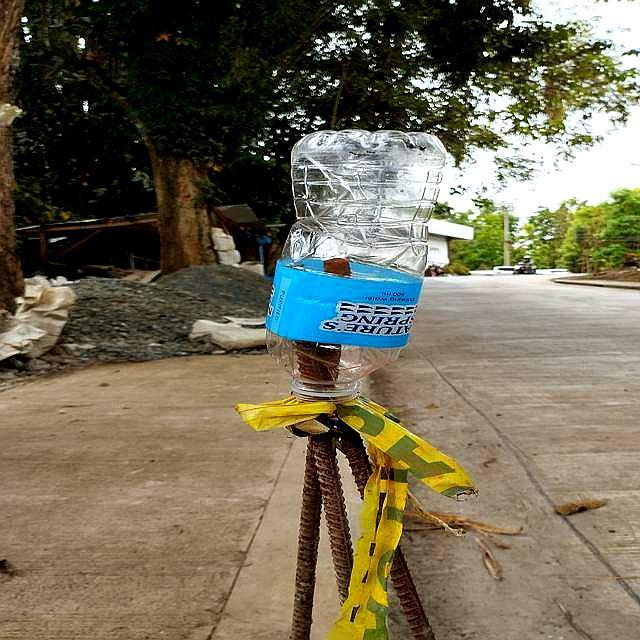Non-biodegradable: (267, 129, 449, 401)
